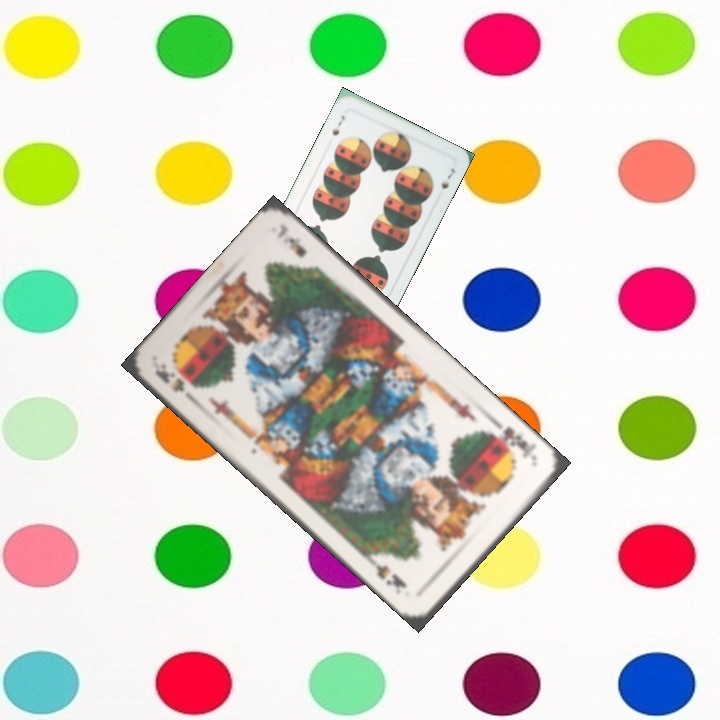S7: (328, 111, 348, 138)
SK: (485, 422, 540, 466), (151, 359, 187, 395)
